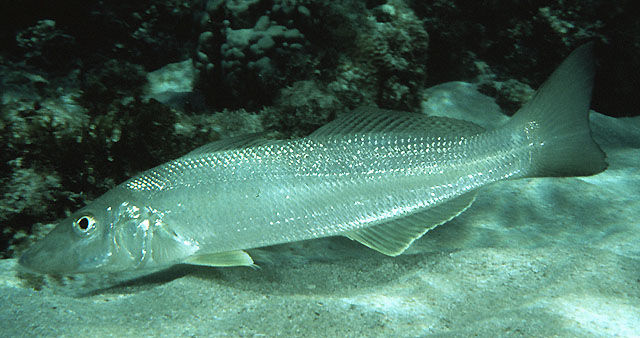fish: (17, 38, 611, 275)
